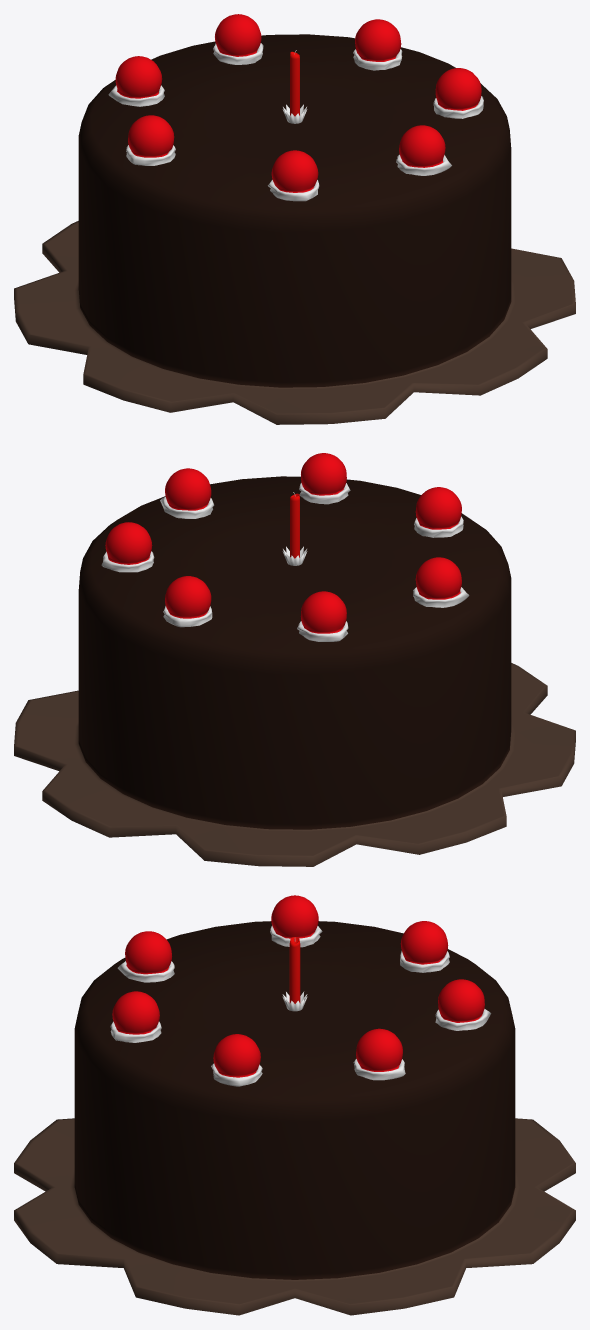
The model's file is cake.gltf.
3 renders of one model, top to bottom at view 1: azimuth 30°, elevation 25°; view 2: azimuth 150°, elevation 25°; view 3: azimuth 270°, elevation 25°, orthographic.
Visible parts, largest first — view 1: cake, decoration, candle; view 2: cake, decoration, candle; view 3: cake, decoration, candle.
Boxes of the visible parts, x1=… form: cake: x1=14, y1=34, x2=575, y2=424; decoration: x1=108, y1=14, x2=483, y2=201; candle: x1=282, y1=50, x2=307, y2=123; cake: x1=14, y1=476, x2=575, y2=866; decoration: x1=101, y1=453, x2=469, y2=641; candle: x1=282, y1=492, x2=307, y2=565; cake: x1=14, y1=921, x2=575, y2=1315; decoration: x1=110, y1=895, x2=491, y2=1086; candle: x1=282, y1=937, x2=307, y2=1011.
Bounding box in the file's own units: 2.55 × 1.3 × 2.55.
